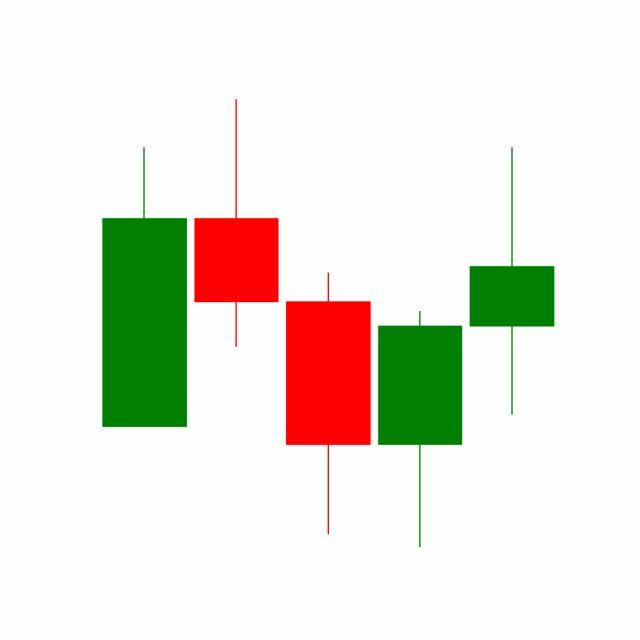Spinning Top: (466, 144, 559, 419)
